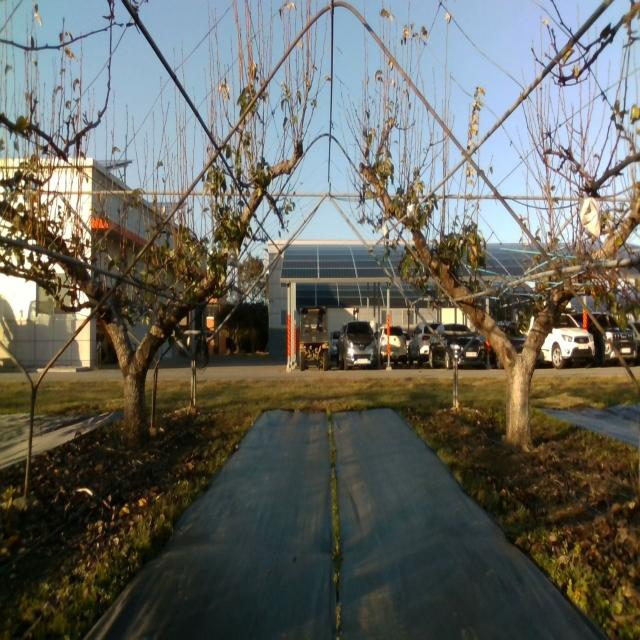pearbags: (579, 193, 601, 239), (227, 246, 238, 268)
